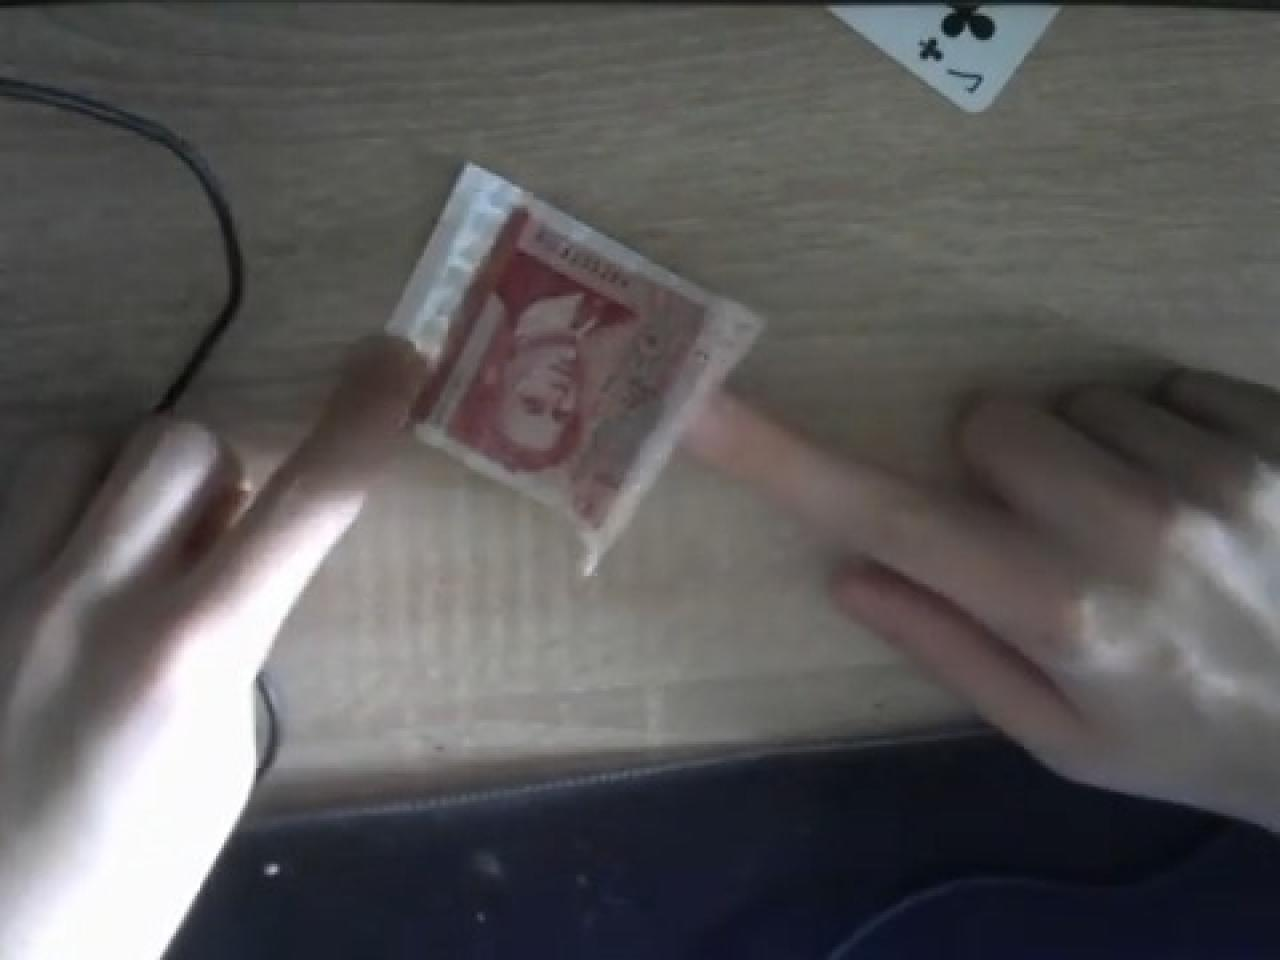5leva: (408, 165, 763, 563)
